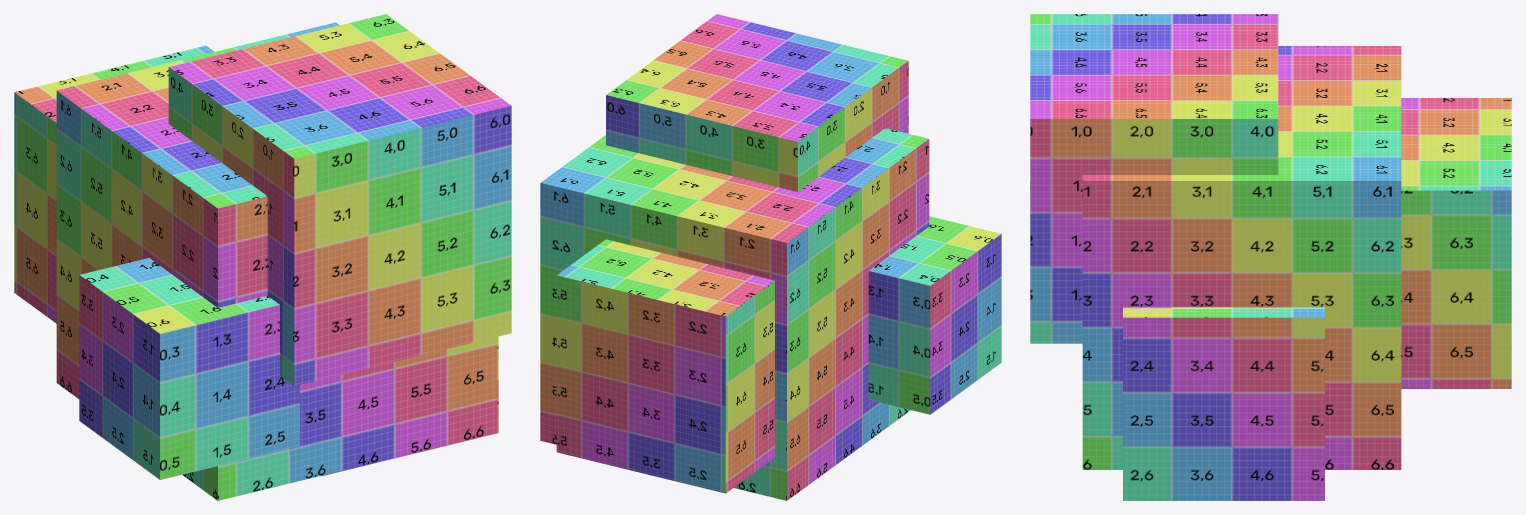
File: star.obj
3 views of the same model, side by side, from view 1: azimuth 30°, elevation 25°; view 2: azimuth 150°, elevation 25°; view 3: azimuth 270°, elevation 25° (orthographic). The views are drawn at different scales.
Visible parts, largest first — view 1: Cube; view 2: Cube; view 3: Cube.
Part boxes in pixels (x1,y1,x2,y2): Cube: (14,14,511,500); Cube: (540,14,1001,500); Cube: (1030,14,1511,500).
Bounding box in the file's own units: 2.66 × 2.53 × 3.02.
Materials: 1 (1 with a texture image).
